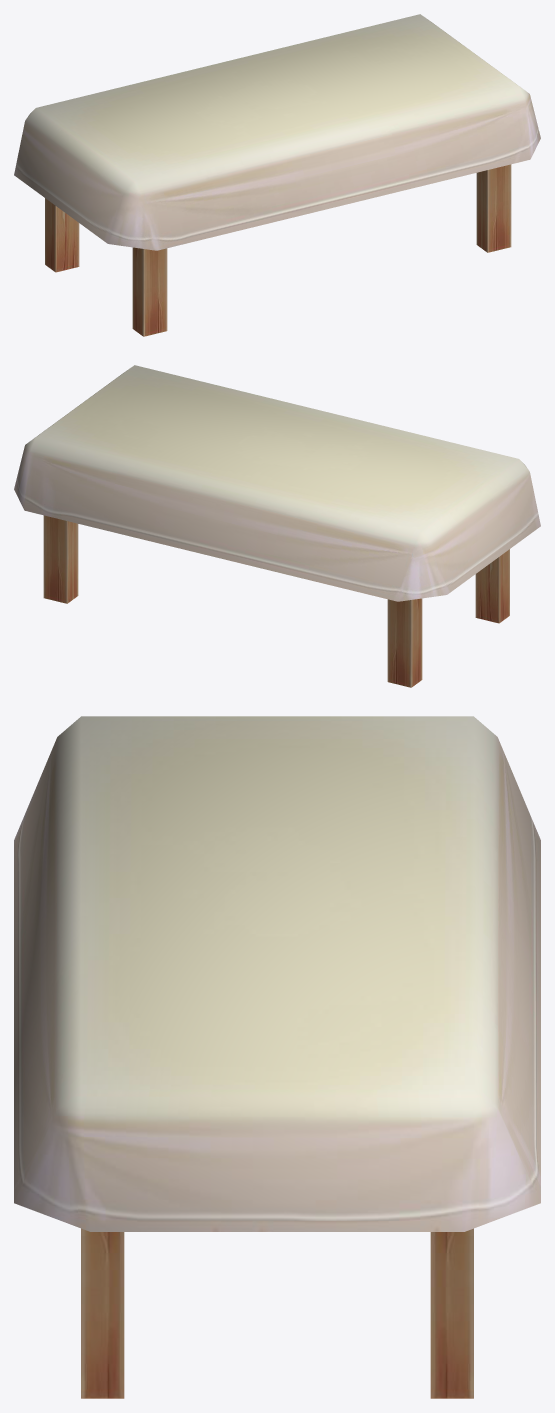
File: SE_Table_02b_SM.FBX
3 renders of one model, top to bottom at view 1: azimuth 30°, elevation 25°; view 2: azimuth 150°, elevation 25°; view 3: azimuth 270°, elevation 25°, orthographic. The views are drawn at different scales.
Parts seen in each view (by area): view 1: SE_Table_02b_SM_LOD0; view 2: SE_Table_02b_SM_LOD0; view 3: SE_Table_02b_SM_LOD0.
Boxes of the visible parts, x1,y1,x2,y2 form: SE_Table_02b_SM_LOD0: (14, 14, 540, 336); SE_Table_02b_SM_LOD0: (14, 365, 540, 687); SE_Table_02b_SM_LOD0: (14, 716, 540, 1398).
Size of what is drawn, in the model's own units: 484 by 256 by 170.
